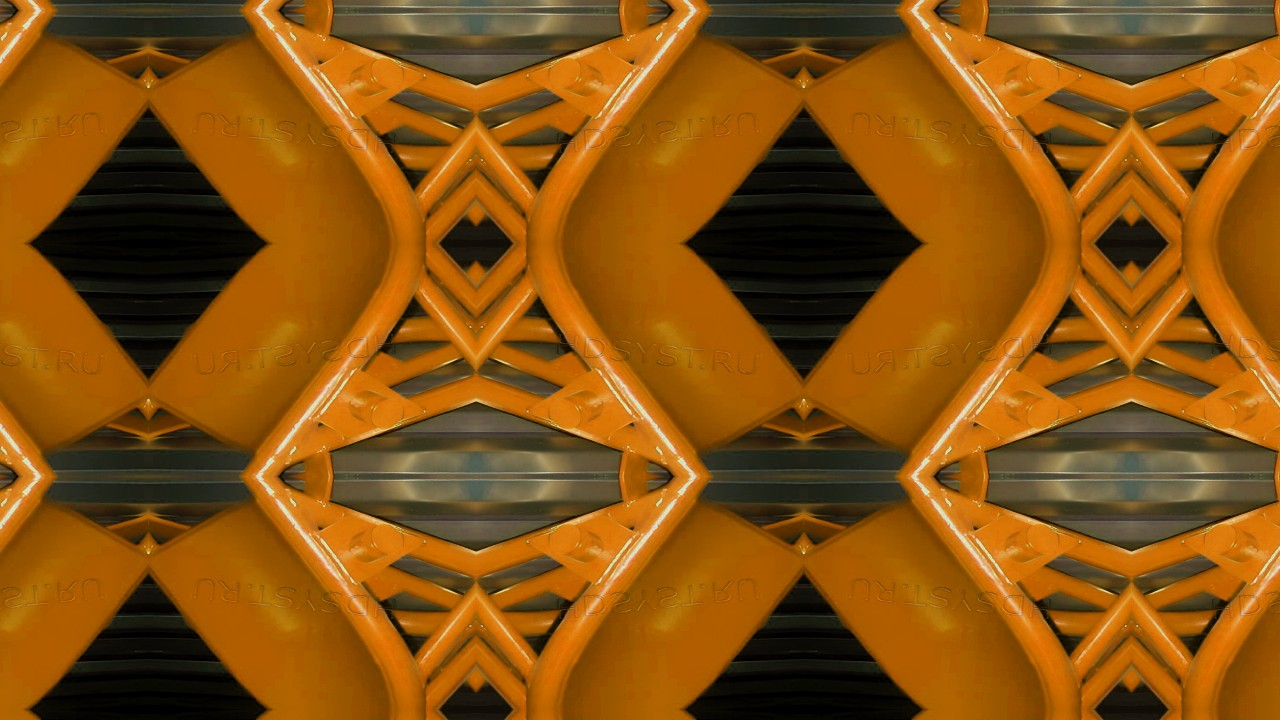chock: (148, 243, 476, 477), (476, 243, 804, 477), (804, 243, 1132, 477), (148, 10, 476, 243), (476, 10, 804, 243), (804, 10, 1132, 243), (148, 477, 476, 710), (476, 477, 804, 710), (804, 477, 1132, 710), (0, 243, 148, 477), (1132, 243, 1280, 477), (0, 10, 148, 243), (1132, 10, 1280, 243), (0, 477, 148, 710), (1132, 477, 1280, 710)
